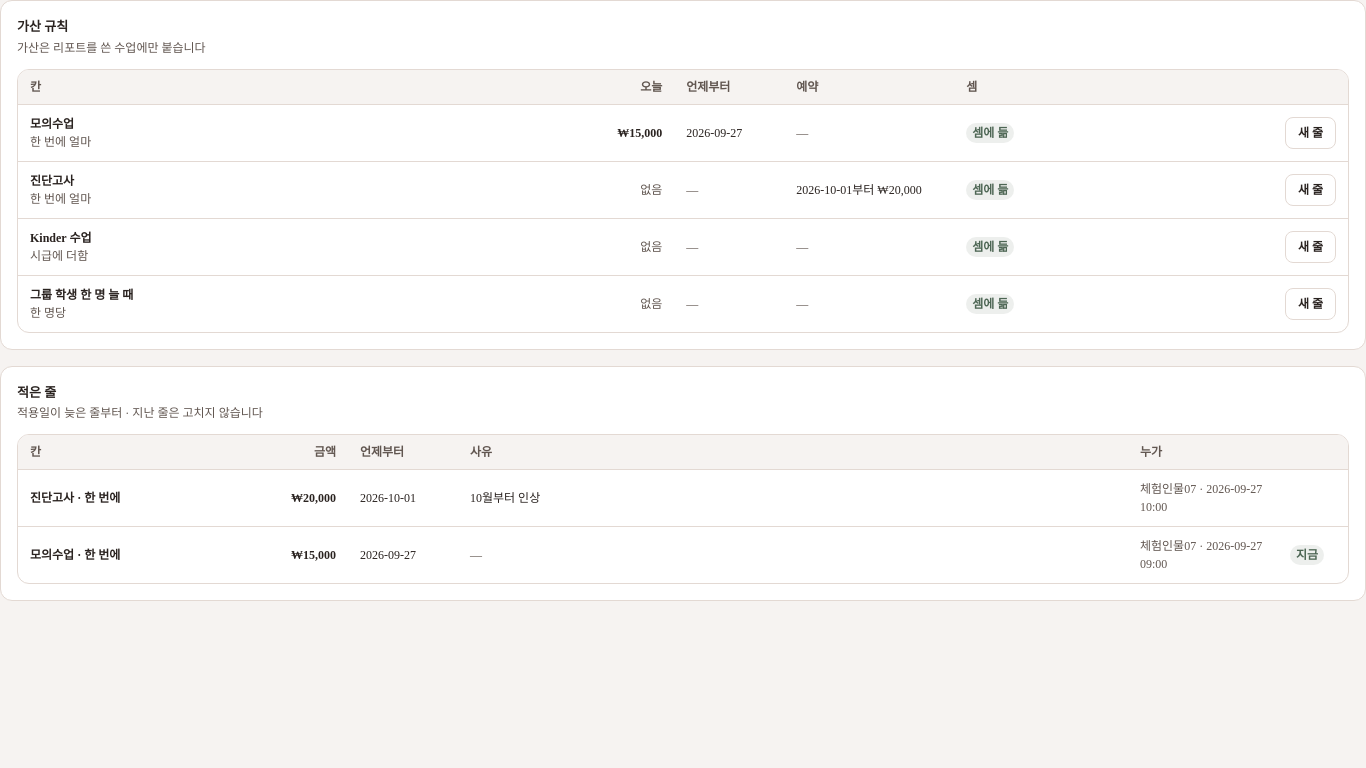
Test: 그룹 · Kinder 는 수업 종류를 보내지 않고, 권고 기본값으로 새 줄을 연다 · 거절은 서버 문장 그대로
This screenshot has width=1366, height=768.
Click the button "새 줄" in the row of "Kinder 수업".
click(1310, 246)  # box [1285, 230, 1336, 262]
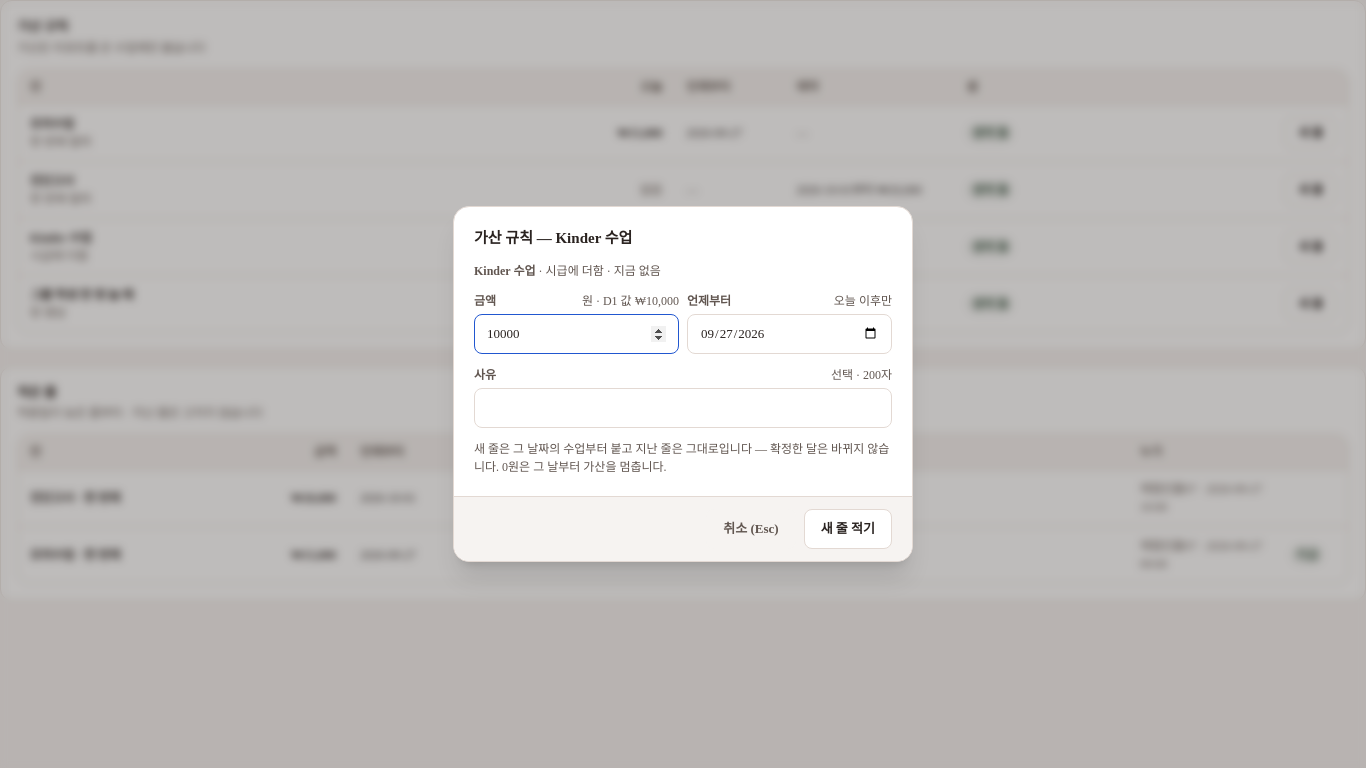
Now the number field labelled "금액" holds "10000", box [474, 314, 679, 354]
Click the button "취소 (Esc)".
click(751, 529)  # box [706, 509, 796, 549]
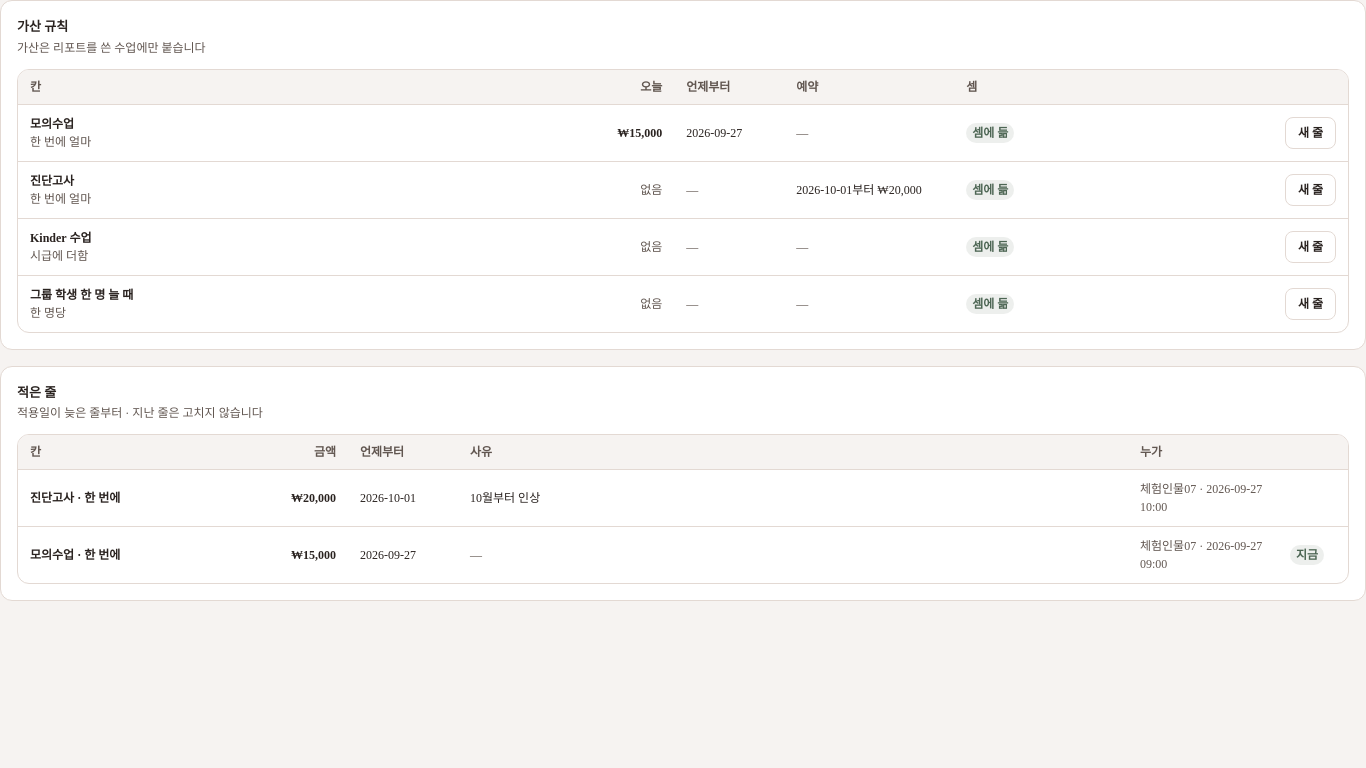
Click the button "새 줄" in the row of "그룹 학생 한 명 늘 때".
click(1310, 304)  # box [1285, 288, 1336, 320]
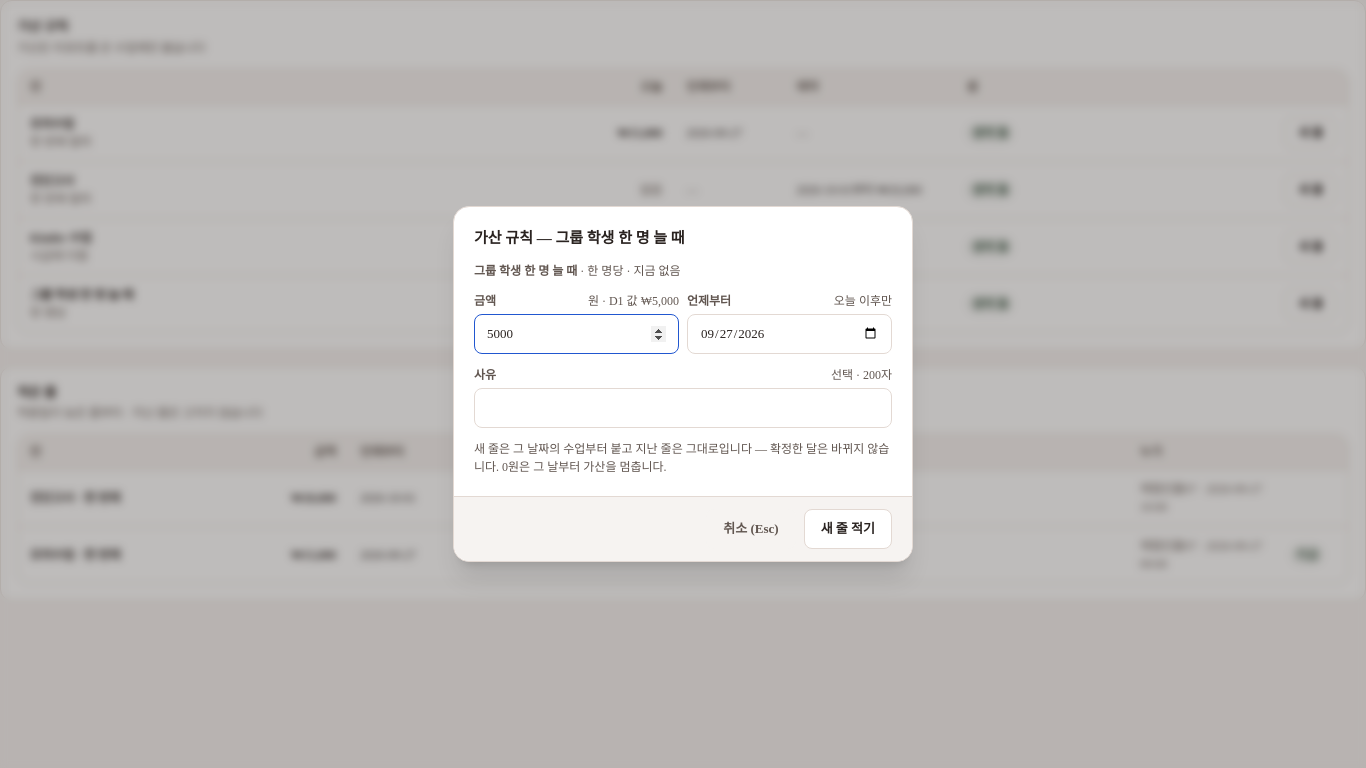
Click the button "새 줄 적기".
click(848, 529)  # box [804, 509, 892, 549]
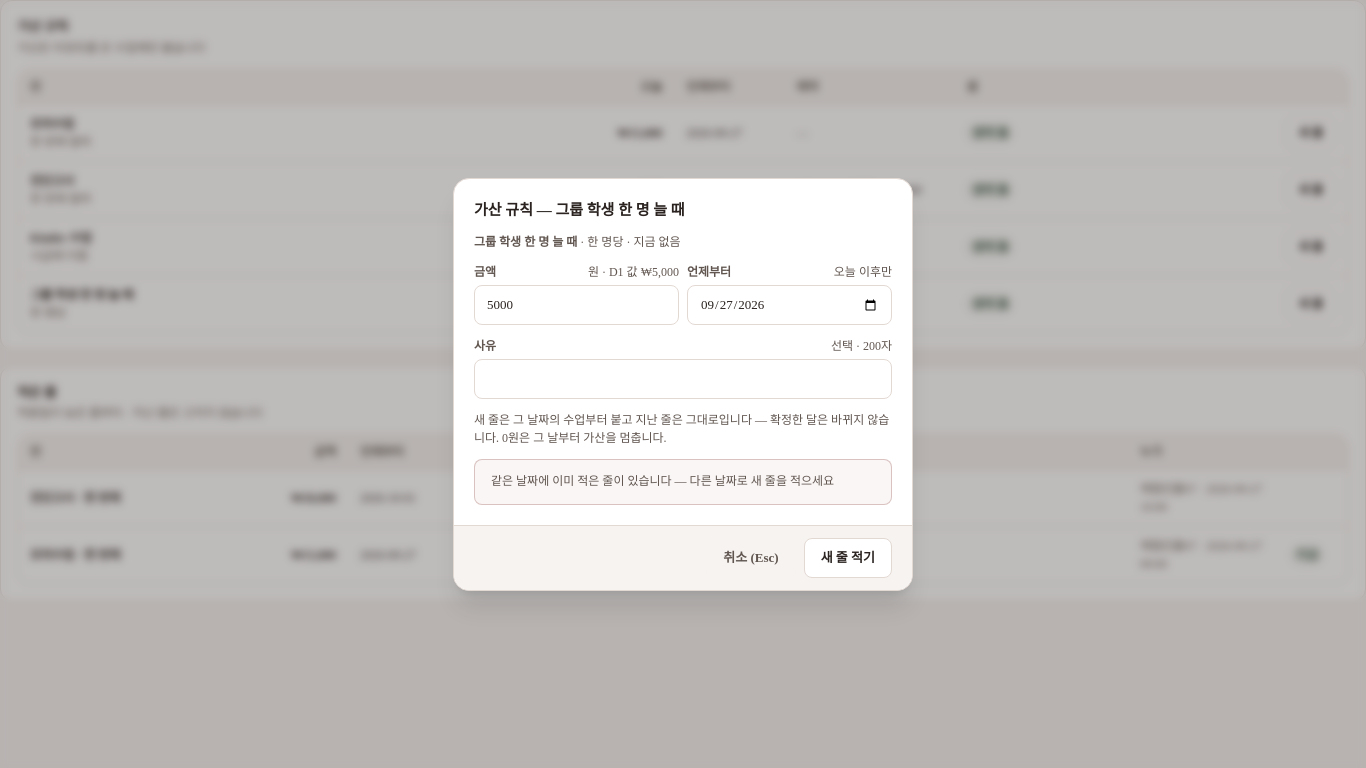
Now the dialog is shown, box [453, 178, 913, 590]
Now the text "같은 날짜에 이미 적은 줄이 있습니다 — 다른 날짜로 새 줄을 적으세요" is shown, box [474, 459, 892, 504]
